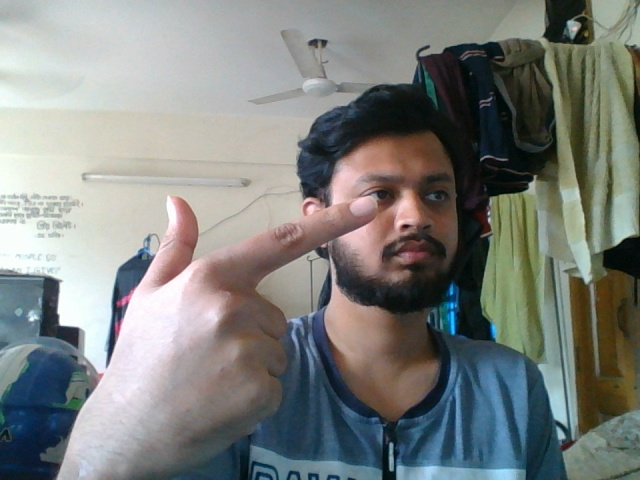tho: (93, 187, 381, 459)
